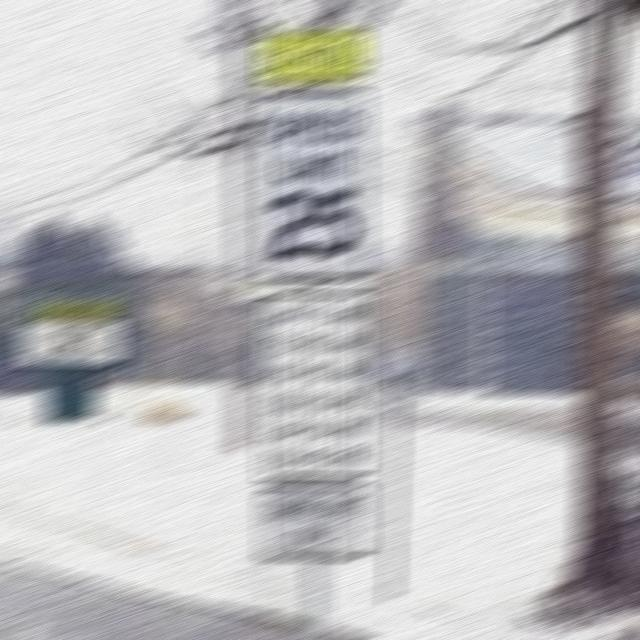speedLimit25: (256, 98, 370, 283)
